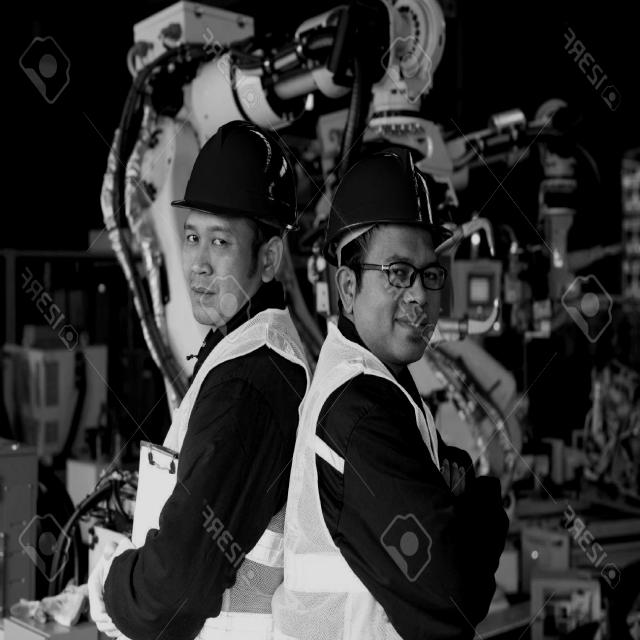face_nomask: (346, 225, 454, 360), (176, 217, 254, 326)
glasses: (380, 252, 452, 298)
head_helmet: (338, 137, 460, 260), (171, 120, 299, 227)
person: (309, 138, 506, 640), (131, 120, 313, 638)
vest: (141, 308, 308, 640), (285, 362, 454, 640)
